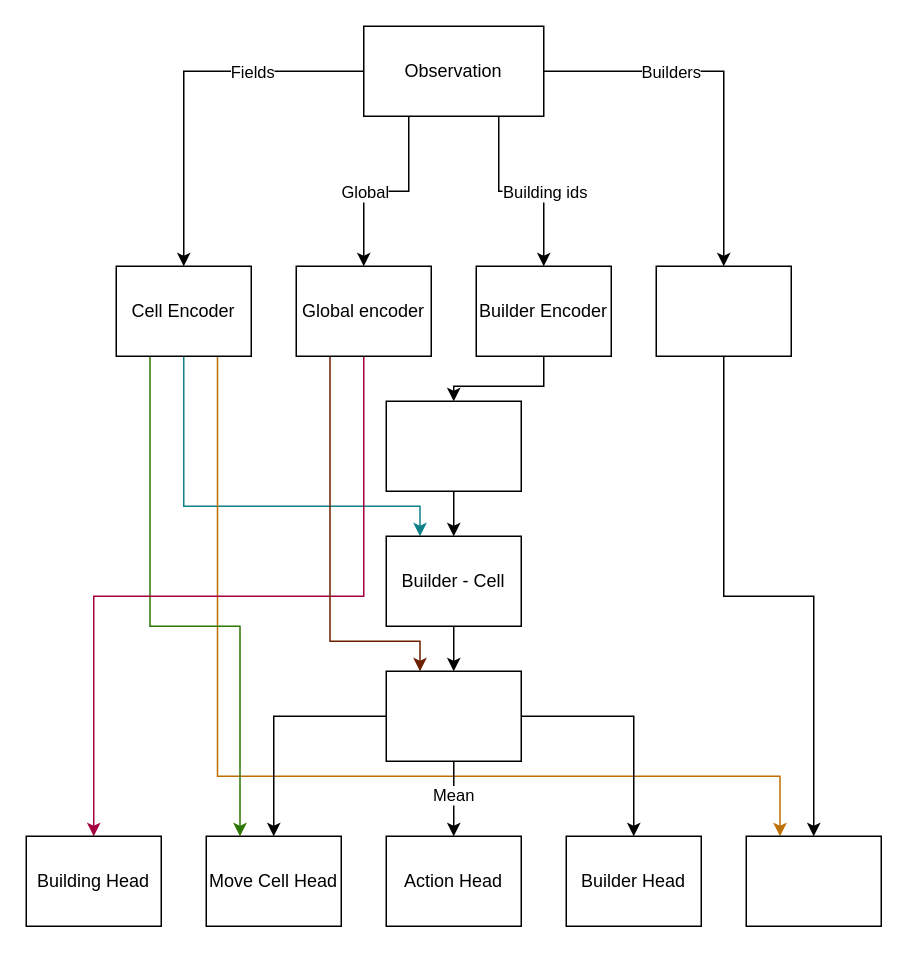
This 908x953 diagram has some shape labels left out. Here are the shapes that lost their labels. From the top down, the centre of each, then its label:
At point 723,310: "Building Encoder".
At point 453,445: "Builder - Builder".
At point 453,715: "Builder - Global".
At point 813,880: "Build Cell Head".
